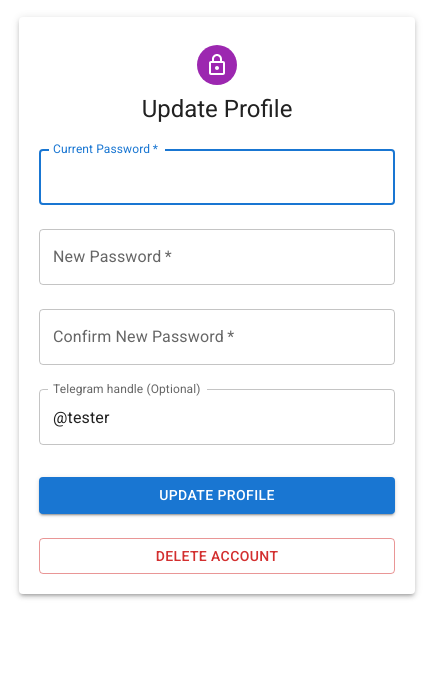
Scenario: Profile Page › shows error when passwords do not match
Type "123" into the password field labelled "Current Password *".
click(217, 177); type("123")  # box [39,149,395,205]
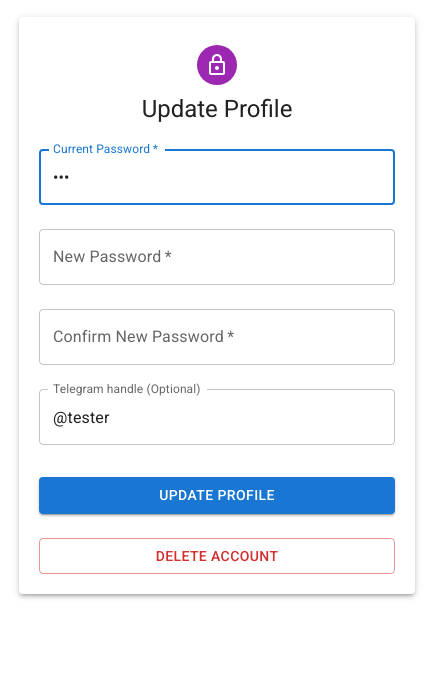
Type "new" into the password field labelled "New Password *".
click(217, 257); type("new")  # box [39,229,395,285]
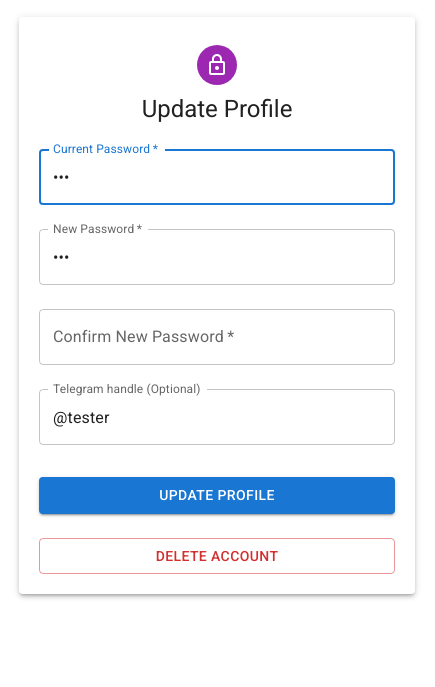
Type "12345" into the password field labelled "Confirm New Password *".
click(217, 337); type("12345")  # box [39,309,395,365]
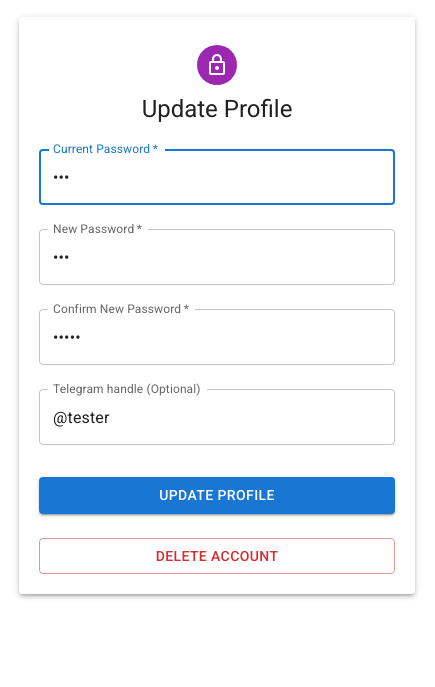
Click the button "Update Profile".
click(217, 495)  # box [39,477,395,514]
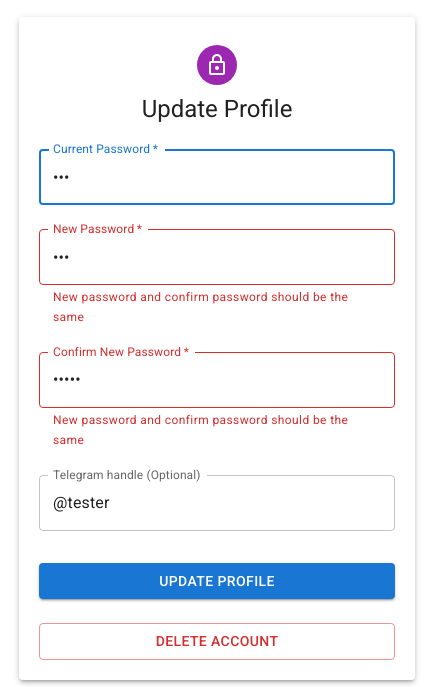
Expected: the text "New password and confirm password should be the same" is shown 2 times, [53,288,381,328]; [53,411,381,451]
